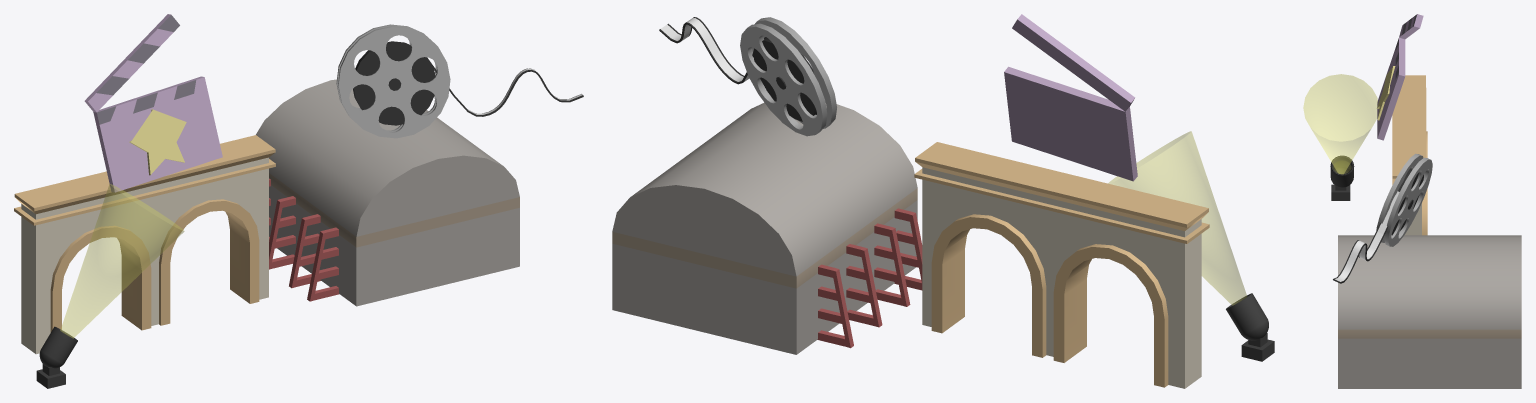
The model's file is Studios.fbx.
The picture shows the model from 3 angles, left to right: view 1: azimuth 30°, elevation 25°; view 2: azimuth 150°, elevation 25°; view 3: azimuth 270°, elevation 25°; orthographic projection. The views are drawn at different scales.
Visible parts, largest first — view 1: Space_Racer__Studios:ExtraMoviePart4; view 2: Space_Racer__Studios:ExtraMoviePart4; view 3: Space_Racer__Studios:ExtraMoviePart4.
Part boxes in pixels (x1,y1,x2,y2): Space_Racer__Studios:ExtraMoviePart4: (14,14,583,388); Space_Racer__Studios:ExtraMoviePart4: (612,14,1274,388); Space_Racer__Studios:ExtraMoviePart4: (1303,14,1521,388).
Bounding box in the file's own units: 139 × 72.36 × 56.88.
